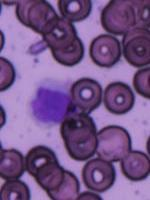M: (28, 76, 74, 127)
